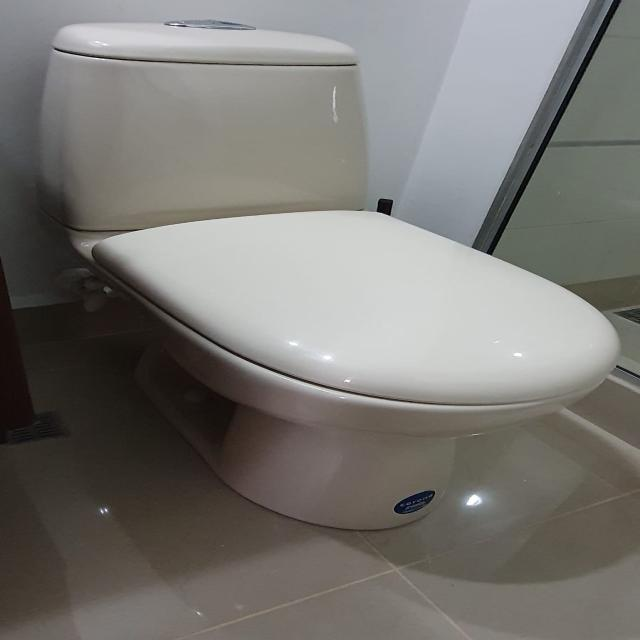toilet: (32, 12, 640, 540)
